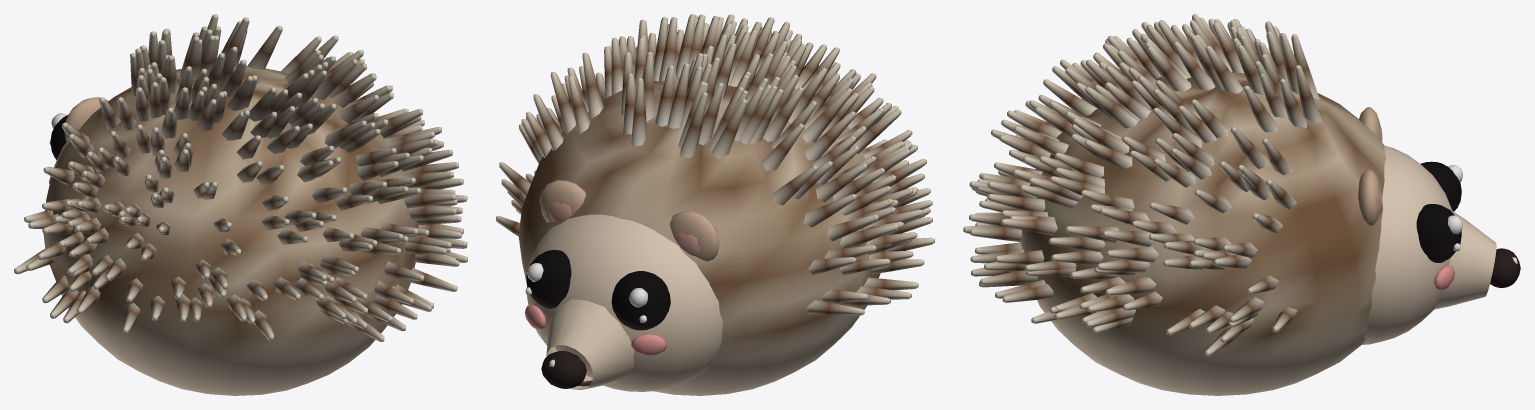
Rendered from Harinezumi.fbx.
3 renders of one model, left to right at view 1: azimuth 30°, elevation 25°; view 2: azimuth 150°, elevation 25°; view 3: azimuth 270°, elevation 25°, orthographic.
Visible parts, largest first — view 1: Harinezumi; view 2: Harinezumi; view 3: Harinezumi.
Part boxes in pixels (<box>): Harinezumi: <box>14,14,467,395</box>; Harinezumi: <box>496,14,934,395</box>; Harinezumi: <box>963,14,1520,395</box>.
Bounding box in the file's own units: 2.46 × 2.02 × 3.02.
